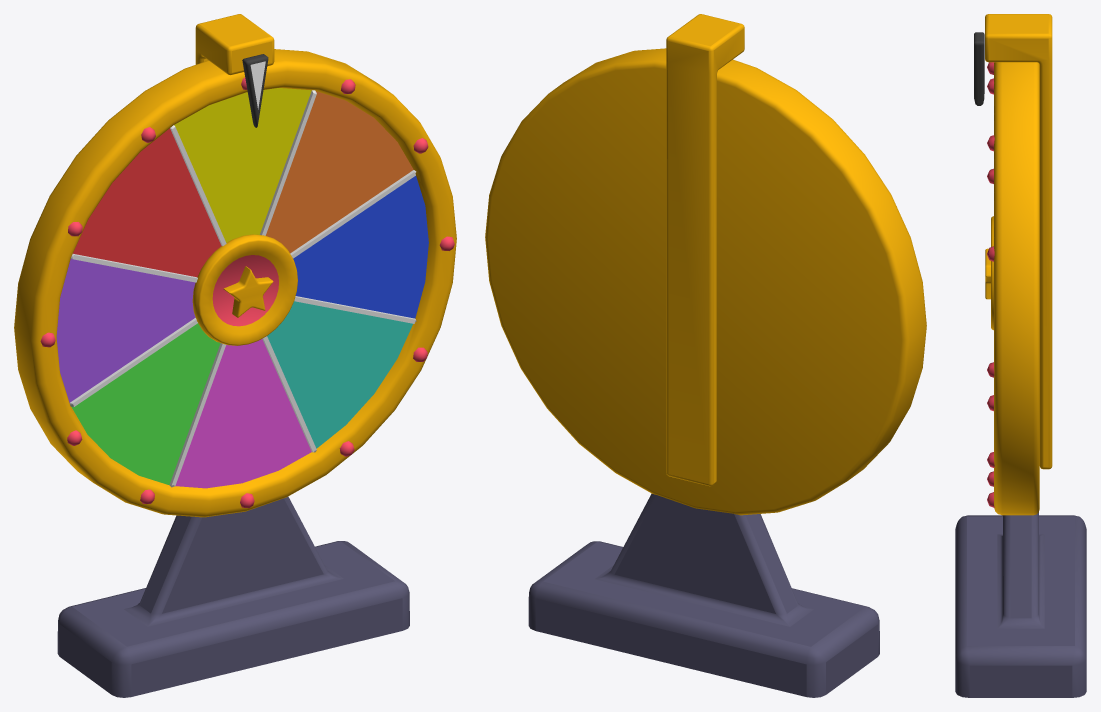
File: internalwheel.glb
3 views of the same model, side by side, from view 1: azimuth 30°, elevation 25°; view 2: azimuth 150°, elevation 25°; view 3: azimuth 270°, elevation 25° (orthographic).
Visible parts, largest first — view 1: Cylinder_1, Cube.017_2, Cube.020_0; view 2: Cylinder_1, Cube.017_2; view 3: Cube.017_2, Cylinder_1, Cube.020_0.
Part boxes in pixels (x1,y1,x2,y2): Cylinder_1: [14, 49, 456, 517]; Cube.017_2: [57, 14, 409, 697]; Cube.020_0: [242, 54, 268, 127]; Cylinder_1: [485, 48, 926, 515]; Cube.017_2: [528, 14, 879, 697]; Cube.017_2: [955, 14, 1086, 697]; Cylinder_1: [985, 62, 1039, 515]; Cube.020_0: [974, 32, 984, 105].
Size of the model in its own units: 1.29 by 1.77 by 0.3497.
